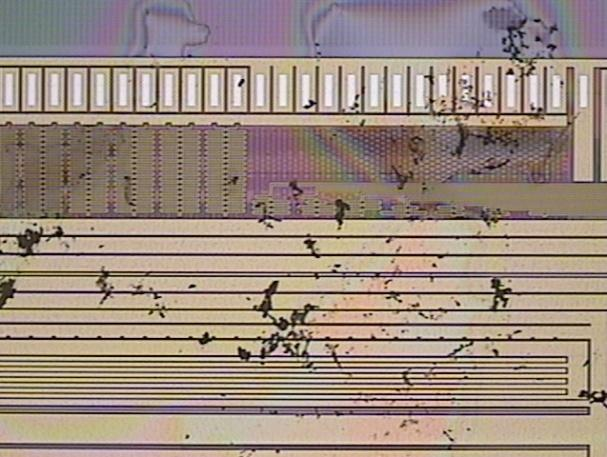PO CONTAMINATION: (1, 16, 607, 457)
